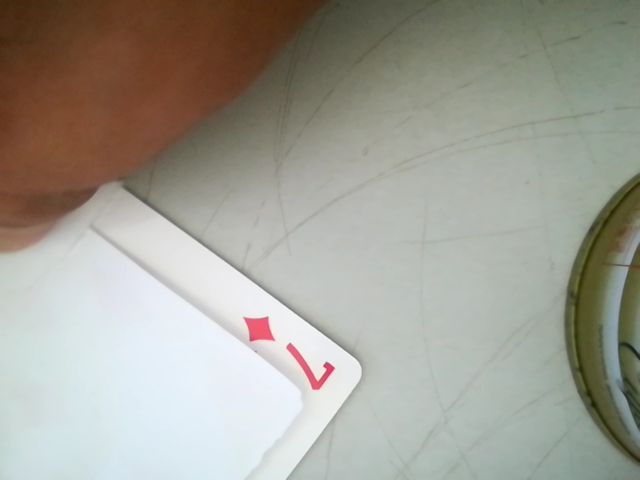fk 7: (232, 315, 352, 403)
